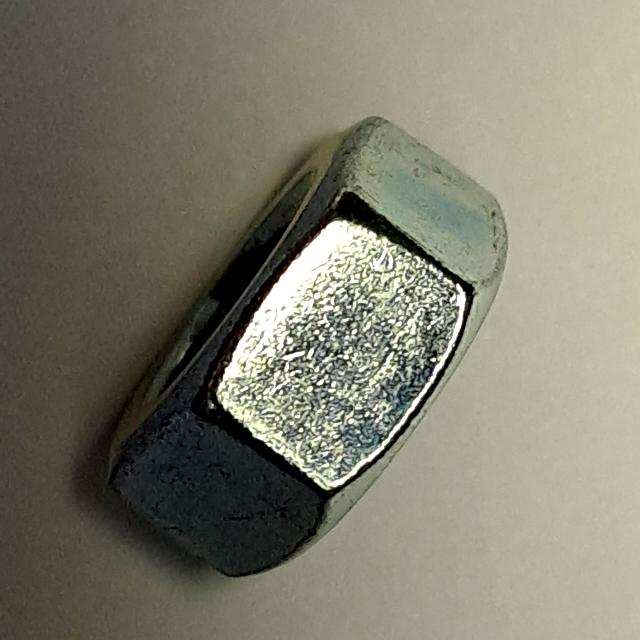Side_Excellent: (100, 102, 517, 593)
